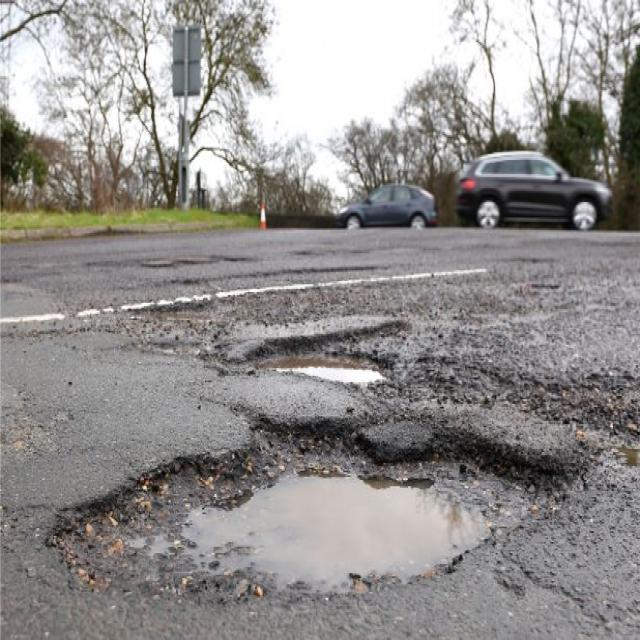pothole: (42, 402, 590, 600), (240, 309, 413, 388)
